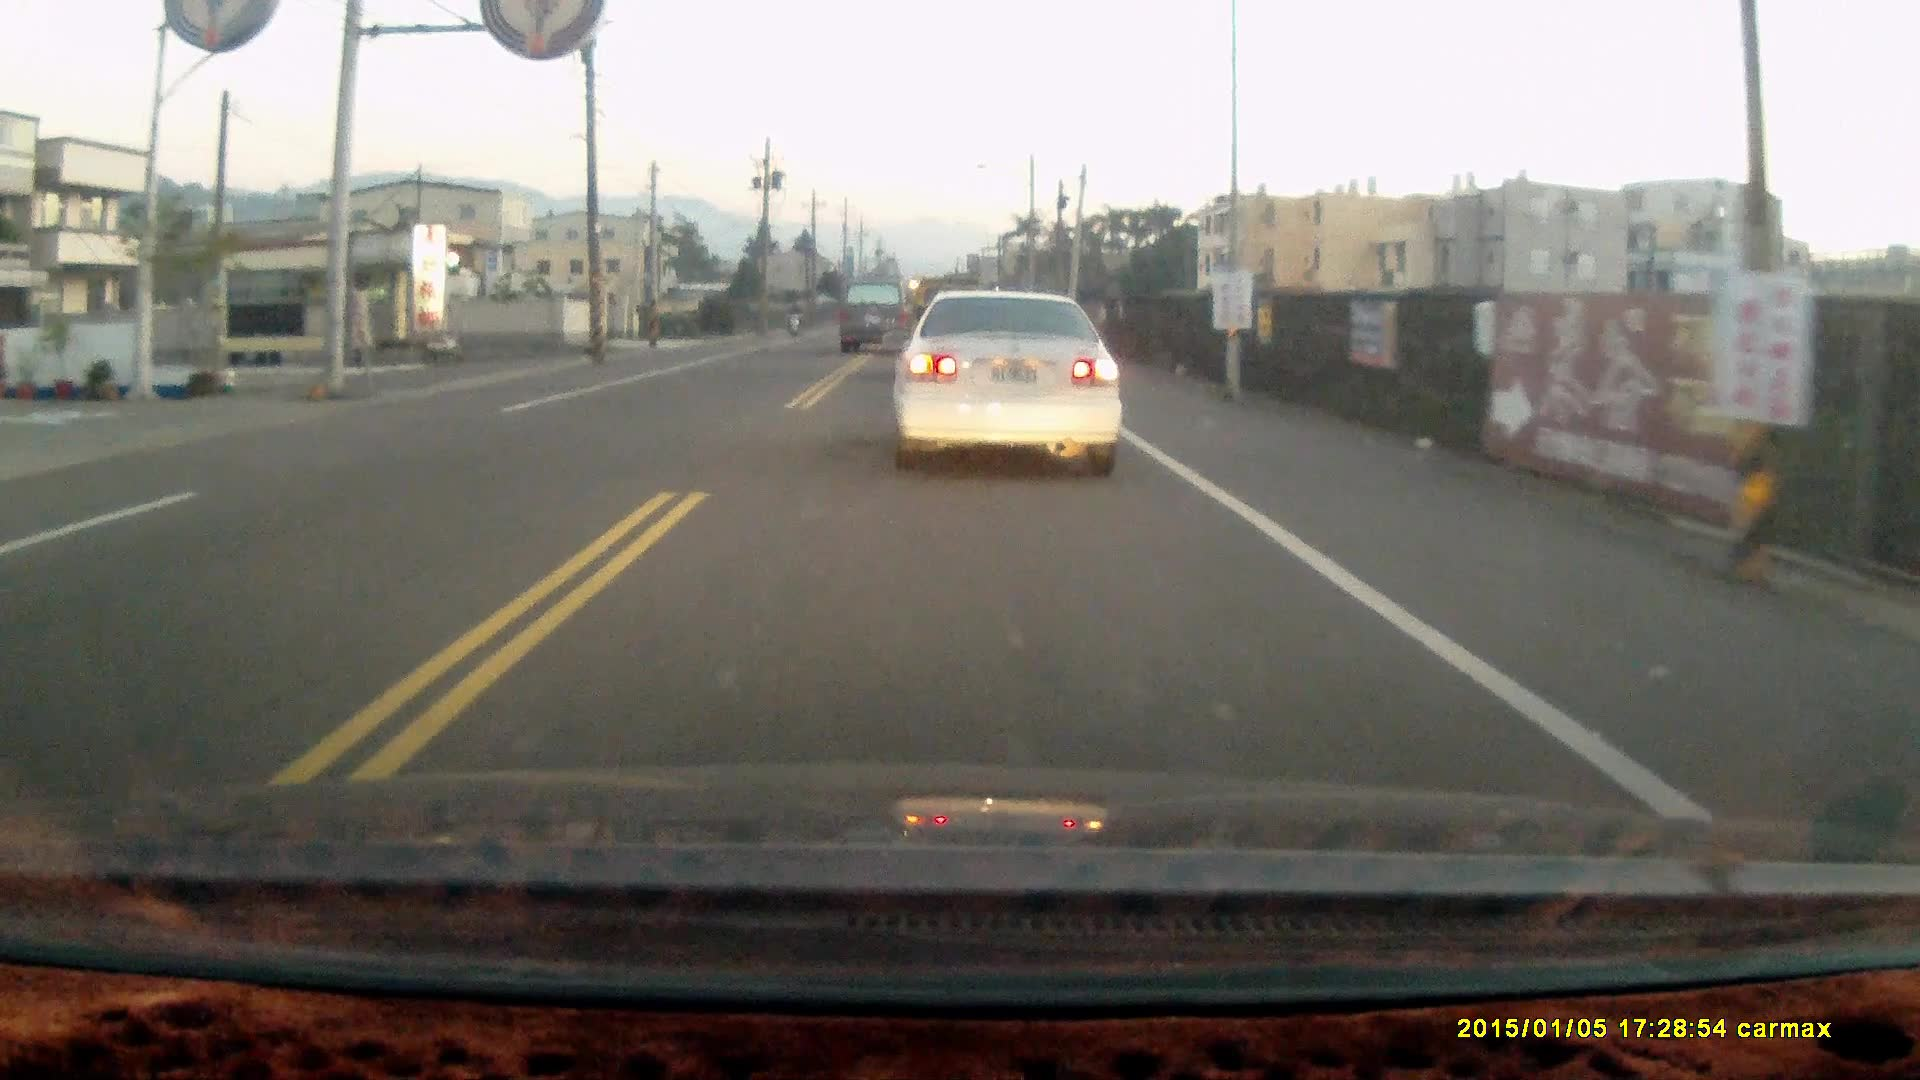rider: (782, 300, 802, 341)
vehicle: (888, 292, 1131, 484), (838, 279, 916, 359)
